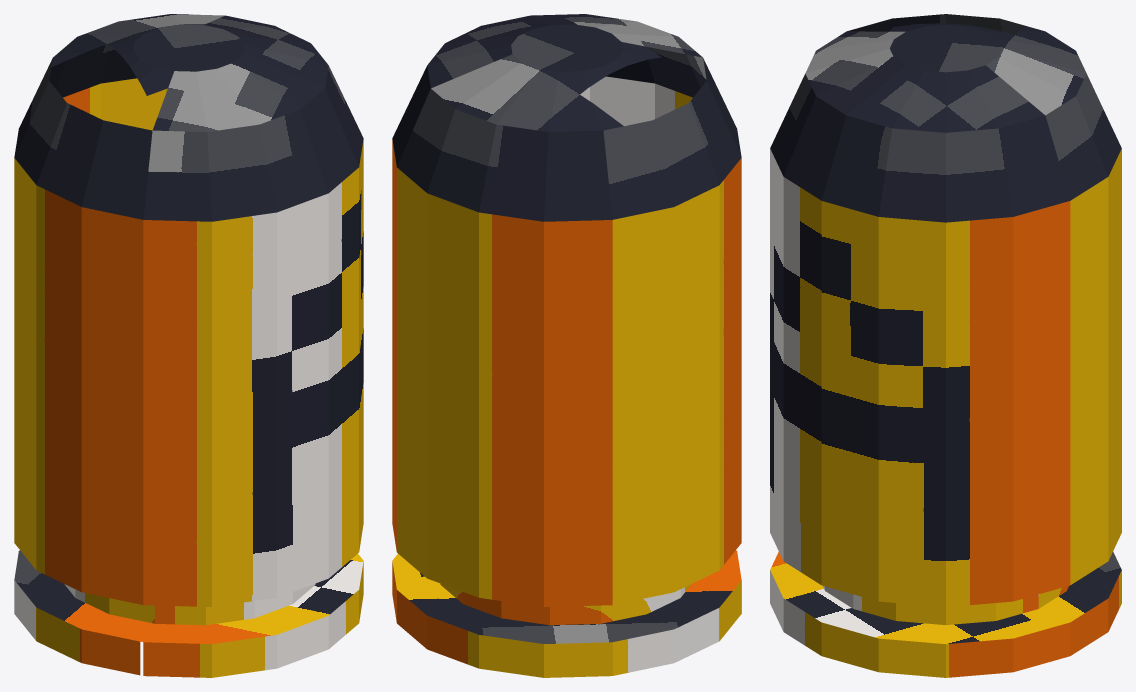
The model's file is AlphaBullet.fbx.
The picture shows the model from 3 angles, left to right: view 1: azimuth 30°, elevation 25°; view 2: azimuth 150°, elevation 25°; view 3: azimuth 270°, elevation 25°; orthographic projection.
Visible parts, largest first — view 1: Cylinder; view 2: Cylinder; view 3: Cylinder.
Part boxes in pixels (x1,y1,x2,y2): Cylinder: (14, 14, 363, 677); Cylinder: (392, 14, 741, 677); Cylinder: (770, 14, 1121, 677).
Bounding box in the file's own units: 256 × 445 × 256.
Materials: 1 (1 with a texture image).
